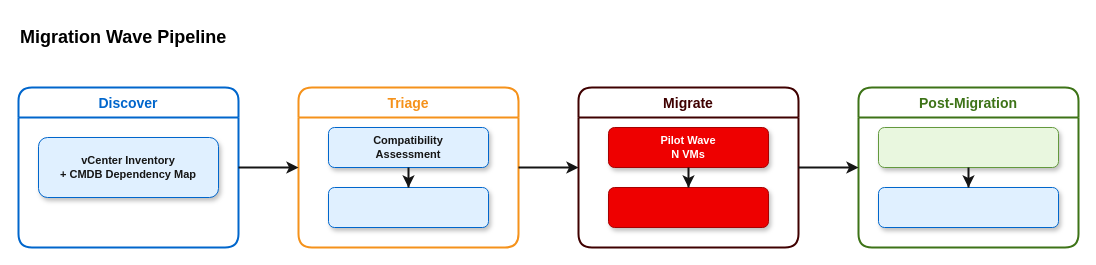
Image size: 1096x265. Some labels were removed from this diagram. The shapes that lost their labels are listed below. From the top down, each one's centre as x and y in pixels, then its label:
At pixel 969 148: "Validation + Performance Check".
At pixel 409 208: "Wave Assignment".
At pixel 689 208: "Production Waves App-Grouped".
At pixel 969 208: "Source Decommission".
